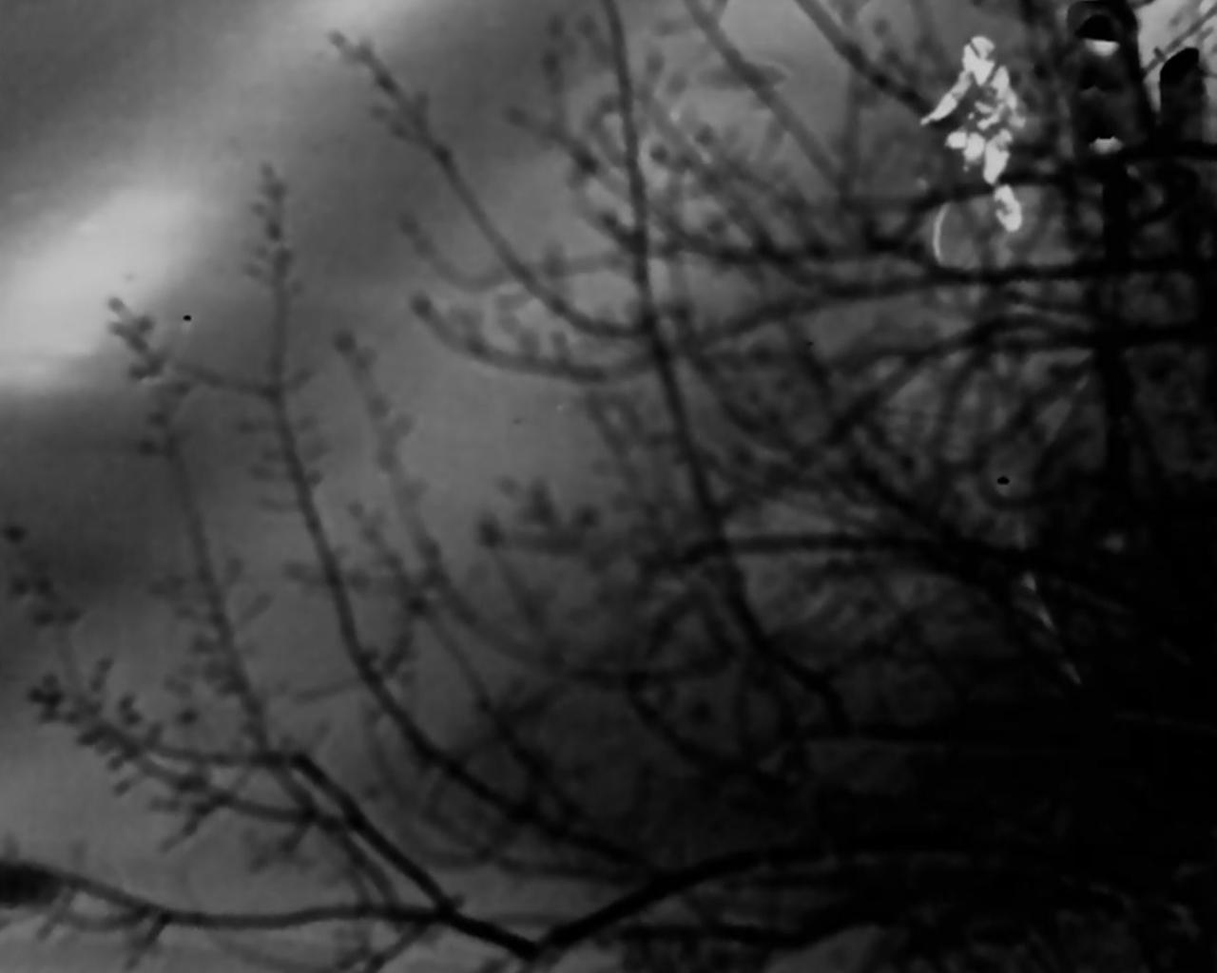person: (929, 24, 1032, 245)
